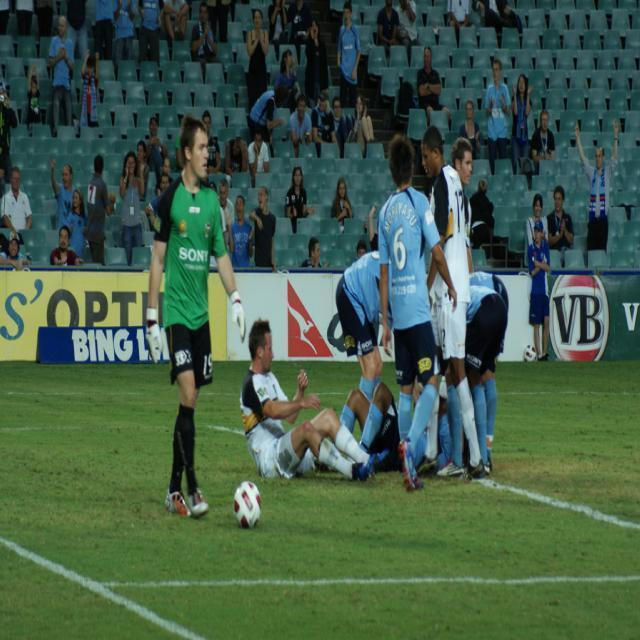ball: (233, 479, 262, 532)
